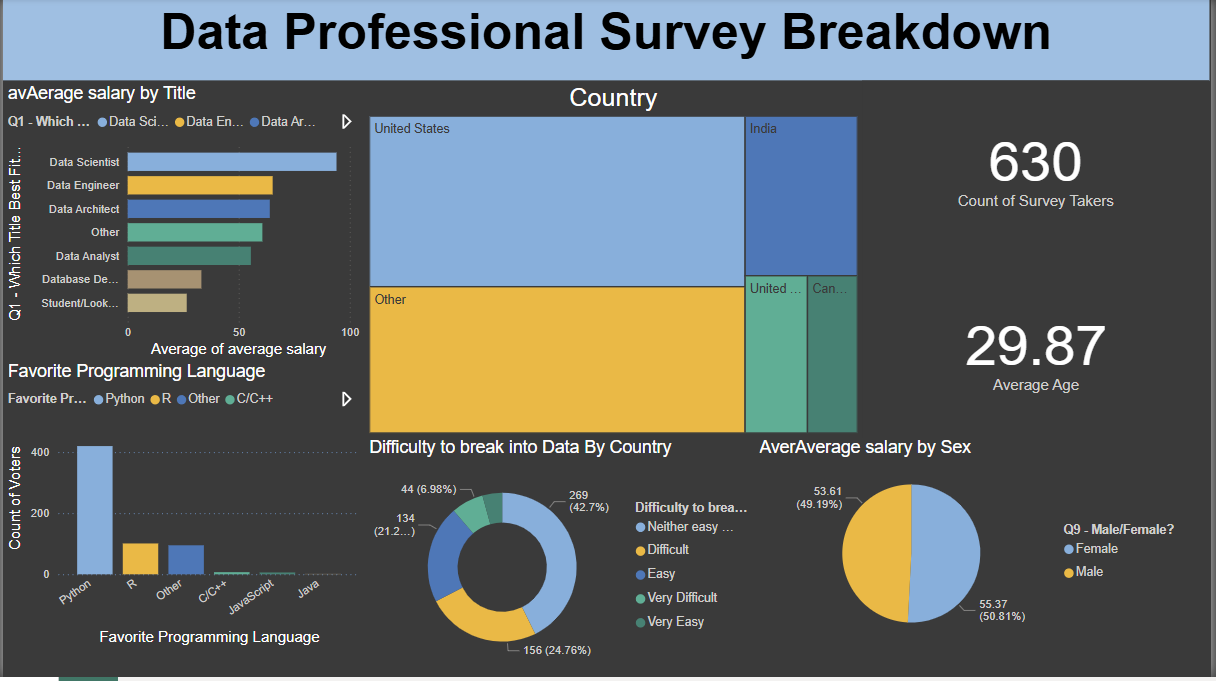

The dashboard page shown, as its layout file describes it:
{"tool":"powerbi","page":{"name":"Page 1","canvas":[1280,720],"ordinal":0},"visuals":[{"type":"textbox","box":[10.5,0,1269.5,145.7],"z":0},{"type":"textbox","box":[0,0,1279.2,87.4],"z":1000},{"type":"card","fields":{"Values":["Count(Data Professional Survey.Unique ID)"]},"box":[911.6,87.4,367.6,179.7],"z":2000},{"type":"card","fields":{"Values":["Avg(Data Professional Survey.Q10 - Current Age)"]},"box":[911.6,278.5,367.6,187.8],"z":3000},{"type":"barChart","title":" avAerage salary by Title ","fields":{"Y":["Avg(Data Professional Survey.average salary)"],"Category":["Data Professional Survey.Q1 - Which Title Best Fits your Current Role?.1"],"Series":["Data Professional Survey.Q1 - Which Title Best Fits your Current Role?.1"]},"box":[0,90.7,383.8,294.7],"z":4000},{"type":"columnChart","title":"Favorite Programming Language","fields":{"Category":["Data Professional Survey.Q5 - Favorite Programming Language.1"],"Y":["Count(Data Professional Survey.Unique ID)"],"Series":["Data Professional Survey.Q5 - Favorite Programming Language.1"]},"box":[0,385.4,383.8,306],"z":5000},{"type":"treemap","title":" Country   ","fields":{"Group":["Data Professional Survey.Q11 - Which Country do you live in?.1"],"Values":["CountNonNull(Data Professional Survey.Q11 - Which Country do you live in?.1)"]},"box":[383.8,90.7,527.9,375.7],"z":6000},{"type":"pieChart","title":"AverAverage salary by Sex","fields":{"Category":["Data Professional Survey.Q9 - Male/Female?"],"Y":["Avg(Data Professional Survey.average salary)"]},"box":[796.7,466.3,469.6,225.1],"z":7000},{"type":"donutChart","title":"Difficulty to break into Data By Country","fields":{"Y":["CountNonNull(Data Professional Survey.Q11 - Which Country do you live in?.1)"],"Category":["Data Professional Survey.Q7 - How difficult was it for you to break into Data?"]},"box":[383.8,466.3,412.9,254.2],"z":8000}]}

Visuals, with their boxes in screenshot pixels (x1, y1, x2, y2), scaled from the page's 1280x720 canvas onto the 1216x681 screenshot:
textbox: bbox=(10, 0, 1215, 138)
textbox: bbox=(0, 0, 1215, 83)
card - Count(Data Professional Survey.Unique ID): bbox=(866, 83, 1215, 253)
card - Avg(Data Professional Survey.Q10 - Current Age): bbox=(866, 263, 1215, 441)
" avAerage salary by Title " barChart: bbox=(0, 86, 365, 365)
"Favorite Programming Language" columnChart: bbox=(0, 365, 365, 654)
" Country   " treemap: bbox=(365, 86, 866, 441)
"AverAverage salary by Sex" pieChart: bbox=(757, 441, 1203, 654)
"Difficulty to break into Data By Country" donutChart: bbox=(365, 441, 757, 680)
